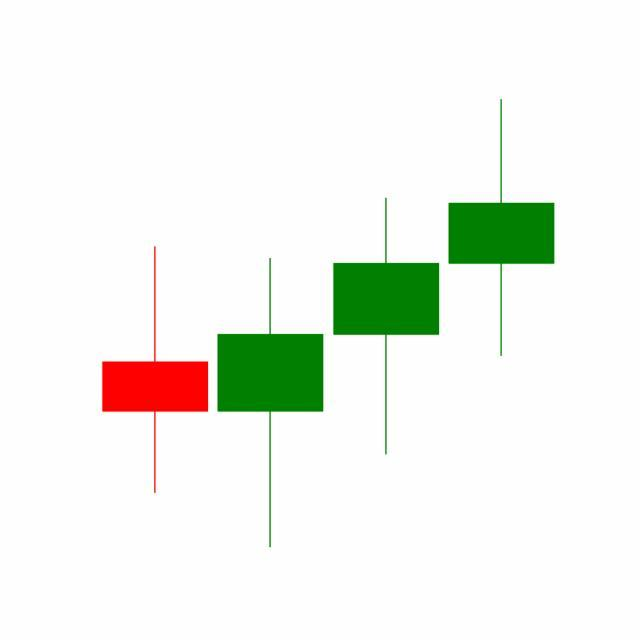Spinning Top: (444, 97, 560, 360)
